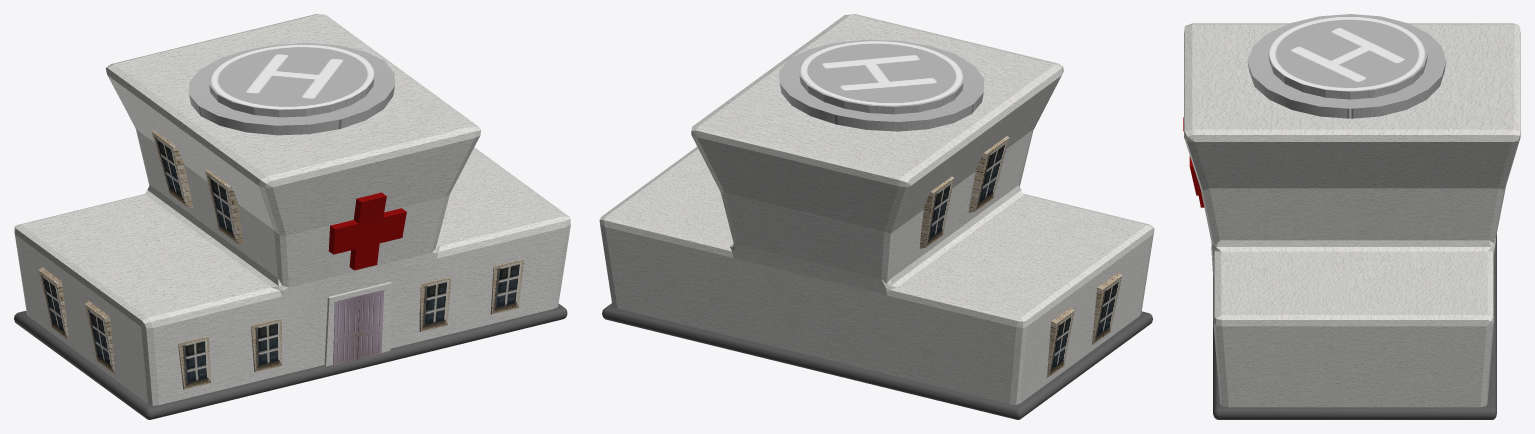
File: hospital.FBX
The picture shows the model from 3 angles, left to right: view 1: azimuth 30°, elevation 25°; view 2: azimuth 150°, elevation 25°; view 3: azimuth 270°, elevation 25°; orthographic projection. The views are drawn at different scales.
Visible parts, largest first — view 1: Box044, Cylinder001, Hospital, ChamferBox001, Box047, Box045, Box046; view 2: Box044, Cylinder001, ChamferBox001, Hospital; view 3: Box044, Cylinder001, ChamferBox001.
Boxes of the visible parts, x1,y1,x2,y2 form: Box044: (14,14,570,405); Cylinder001: (189,43,394,135); Hospital: (38,130,524,389); ChamferBox001: (14,304,567,419); Box047: (328,192,406,270); Box045: (333,295,359,365); Box046: (357,289,384,359); Box044: (599,14,1154,404); Cylinder001: (779,39,984,131); ChamferBox001: (602,303,1152,419); Hospital: (919,136,1122,377); Box044: (1184,23,1520,407); Cylinder001: (1247,14,1446,118); ChamferBox001: (1213,234,1496,419).
Size of the model in its own units: 60.09 by 32.93 by 38.78.
6 materials, 4 textured.
